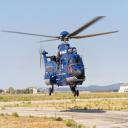helicopter: (2, 14, 122, 99)
